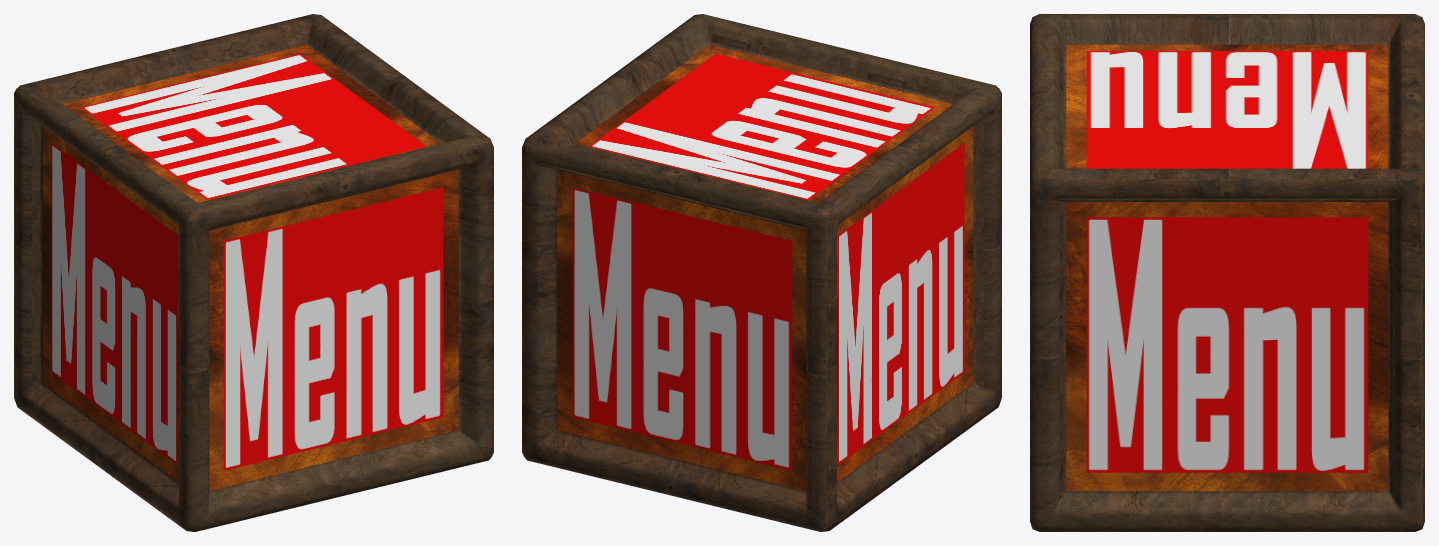
Rendered from icon_block.fbx.
3 views of the same model, side by side, from view 1: azimuth 30°, elevation 25°; view 2: azimuth 150°, elevation 25°; view 3: azimuth 270°, elevation 25° (orthographic). The views are drawn at different scales.
Visible parts, largest first — view 1: pPlane7, pCube1; view 2: pPlane7, pCube1; view 3: pPlane7, pCube1.
Boxes of the visible parts, box(x1,y1,x2,y2) form: pPlane7: box(51, 54, 443, 470); pCube1: box(14, 14, 493, 531); pPlane7: box(572, 54, 964, 470); pCube1: box(522, 14, 1001, 531); pPlane7: box(1086, 51, 1368, 472); pCube1: box(1030, 14, 1424, 531).
Bounding box in the file's own units: 10 × 10 × 10.
Materials: 3 (3 with a texture image).
